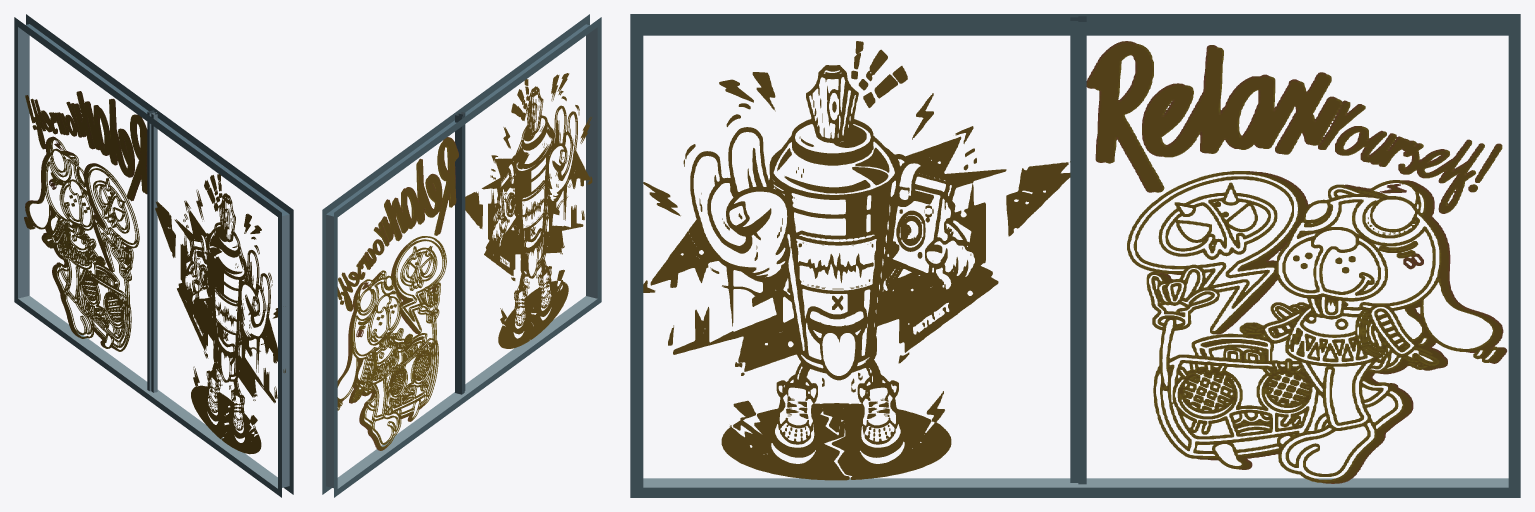
The model's file is M_cantingchuang04.FBX.
3 renders of one model, left to right at view 1: azimuth 30°, elevation 25°; view 2: azimuth 150°, elevation 25°; view 3: azimuth 270°, elevation 25°, orthographic. The views are drawn at different scales.
Visible parts, largest first — view 1: M_cantingchuang04_02, M_cantingchuang04_01; view 2: M_cantingchuang04_02, M_cantingchuang04_01; view 3: M_cantingchuang04_02, M_cantingchuang04_01.
Boxes of the visible parts, left/top/right/bottom form: M_cantingchuang04_02: left=24, top=91, right=285, bottom=454; M_cantingchuang04_01: left=14, top=14, right=293, bottom=497; M_cantingchuang04_02: left=337, top=73, right=592, bottom=450; M_cantingchuang04_01: left=322, top=14, right=601, bottom=497; M_cantingchuang04_02: left=643, top=41, right=1507, bottom=483; M_cantingchuang04_01: left=630, top=14, right=1520, bottom=497.
Size of the model in its own units: 0.1121 by 2.62 by 4.44.
